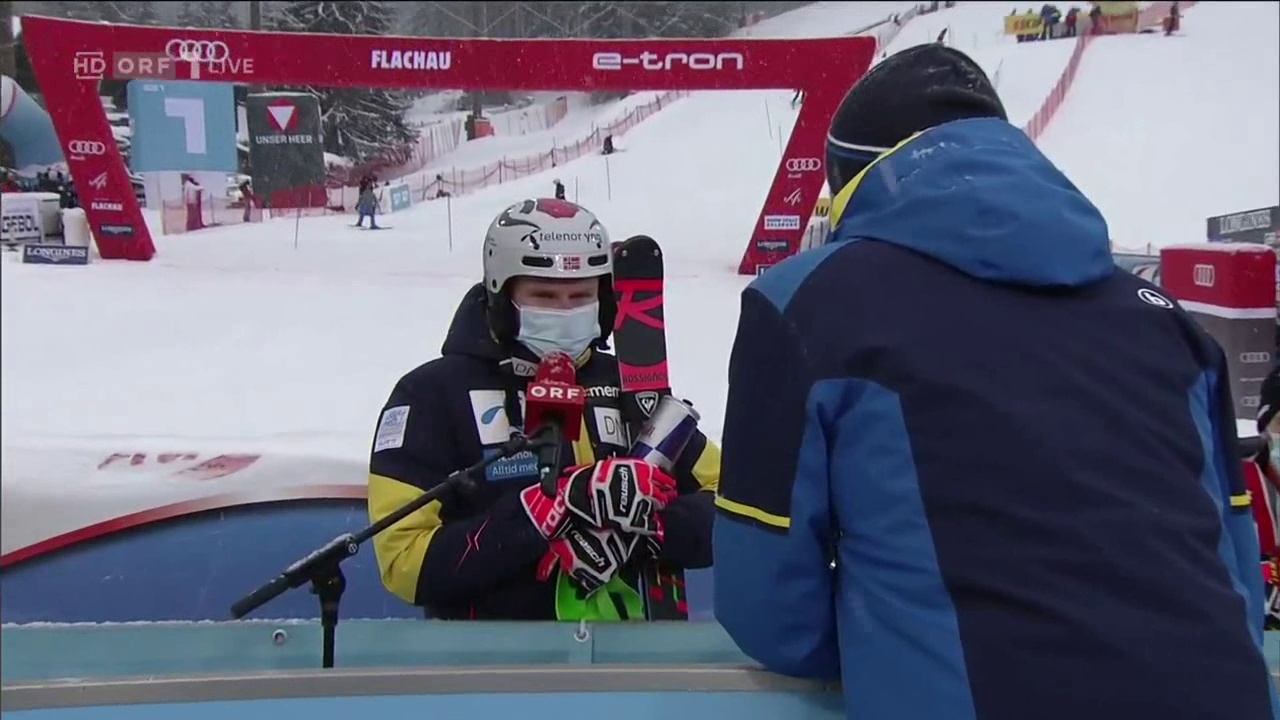audi: (165, 37, 231, 66), (67, 138, 110, 160), (786, 155, 824, 177)
etron: (592, 51, 754, 79)
flachau: (370, 45, 453, 76)
unserheer: (251, 101, 319, 145)
